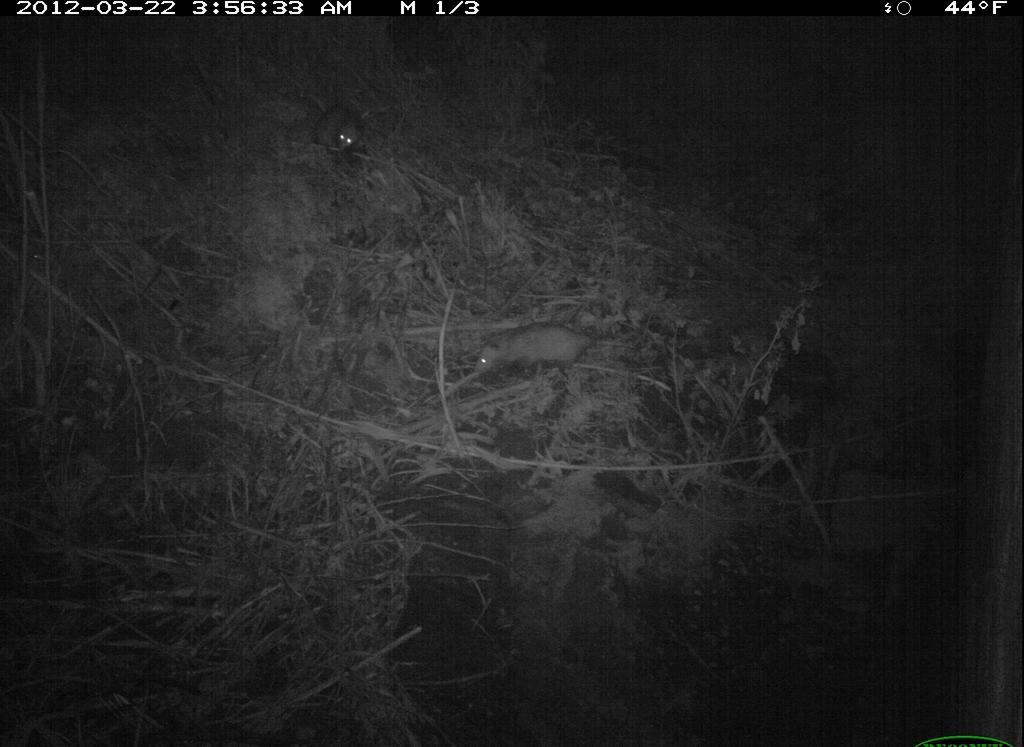opossum: (456, 319, 628, 386), (313, 102, 369, 162)
